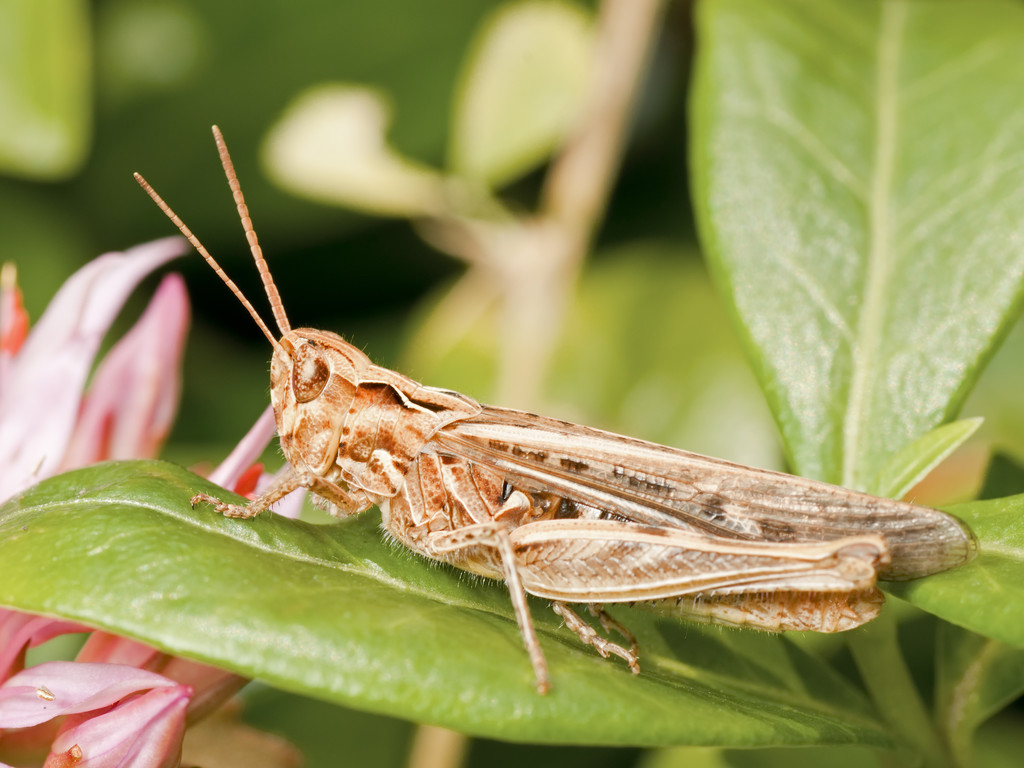huangchong: (232, 270, 966, 665)
